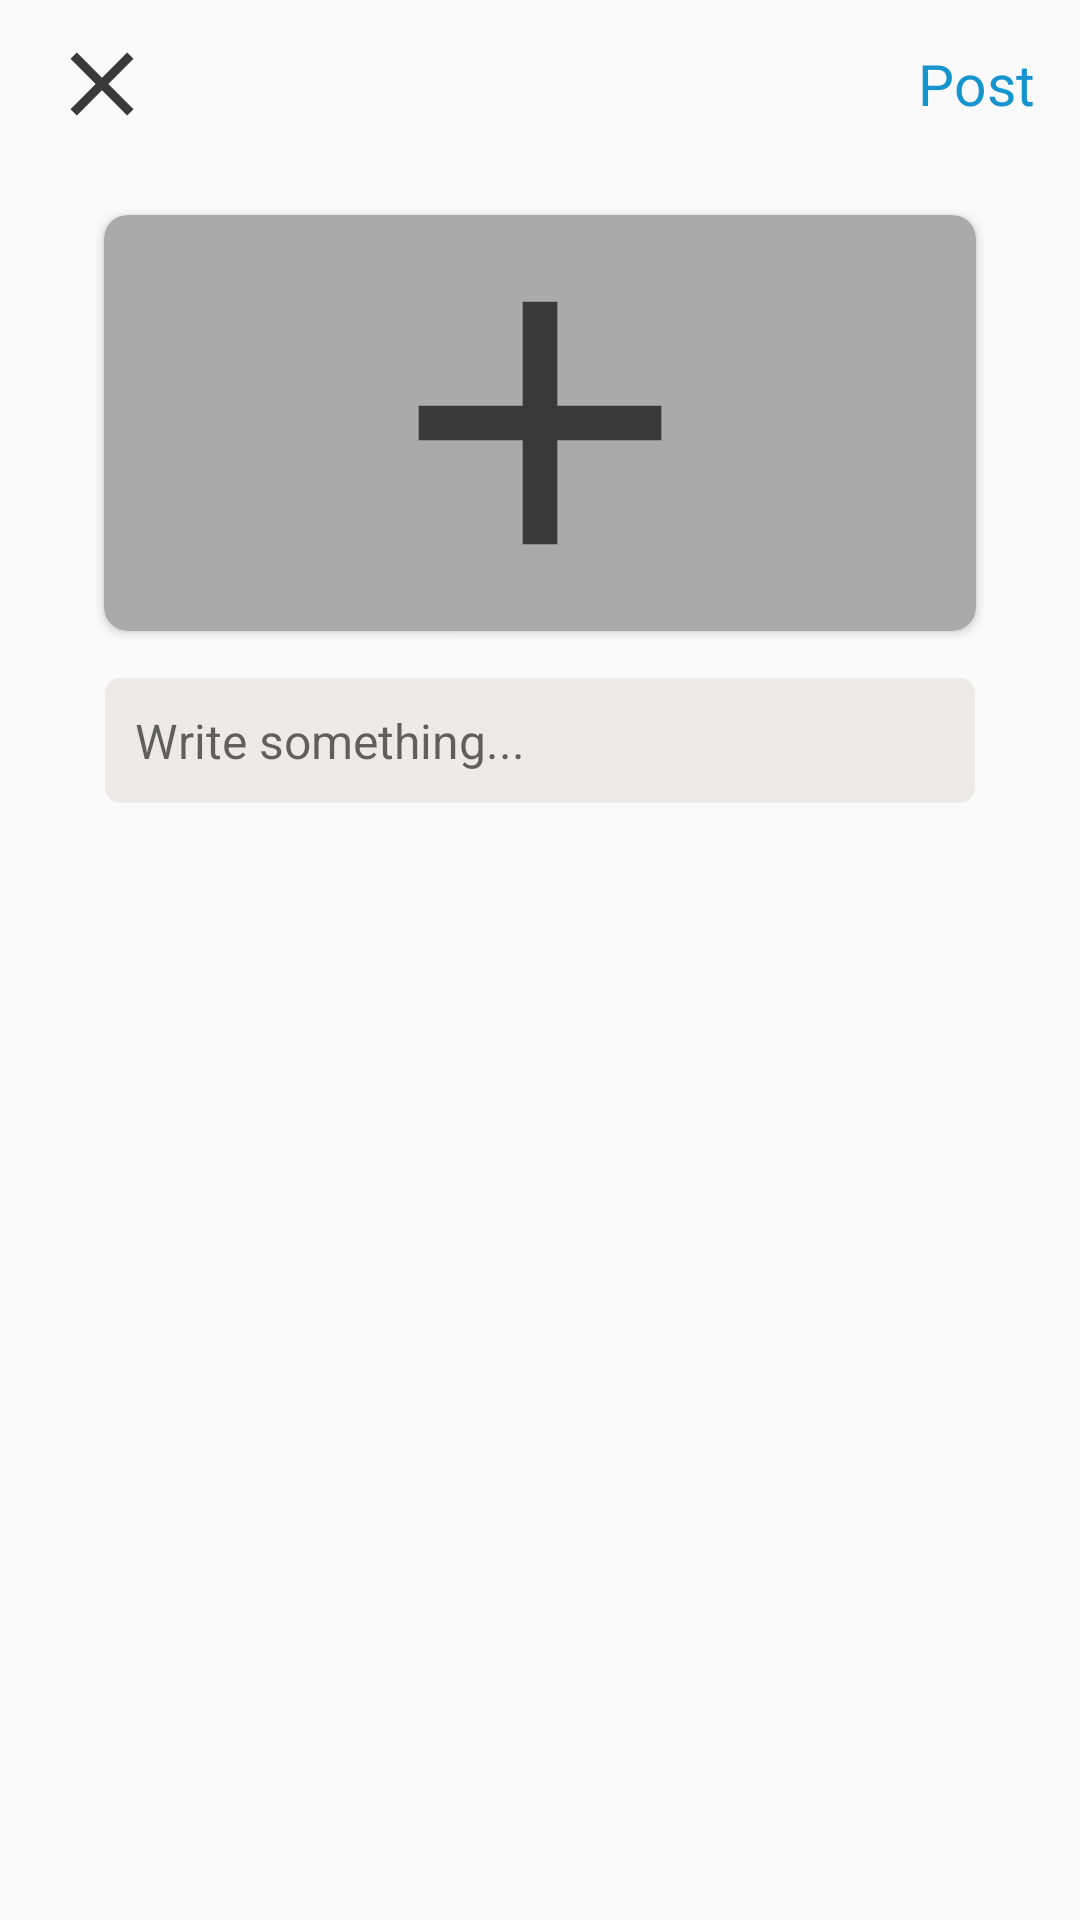

Where icons sit on this 1080px x 1920px app screen, as (x1, y1, x2, y2):
clear: (70, 52, 134, 116)
